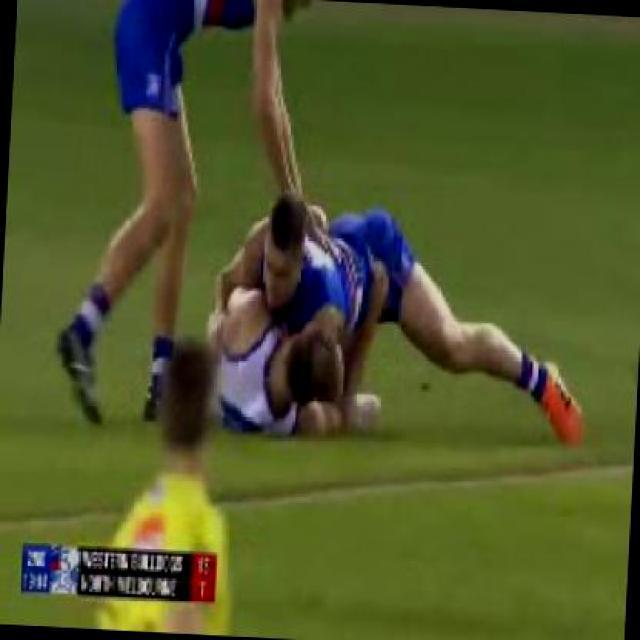fight: (202, 192, 596, 448)
